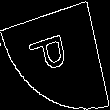P_E: (30, 29, 80, 81)
